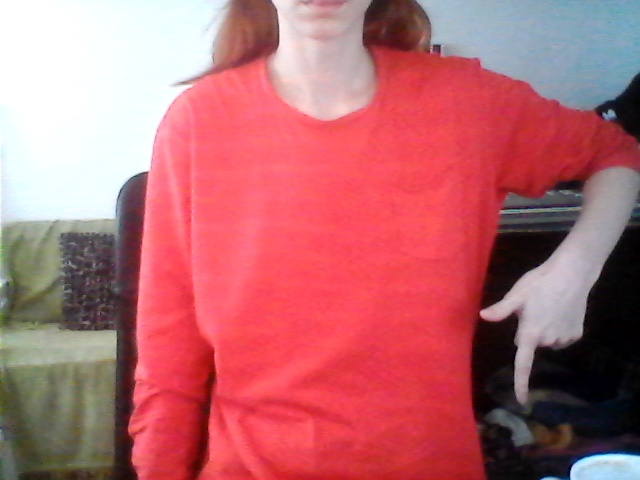policia: (447, 271, 596, 424)
